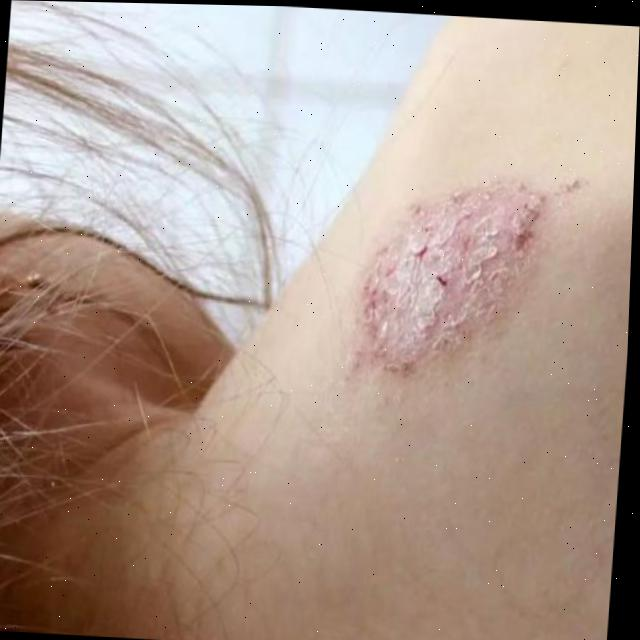Eczema: (349, 170, 548, 368)
